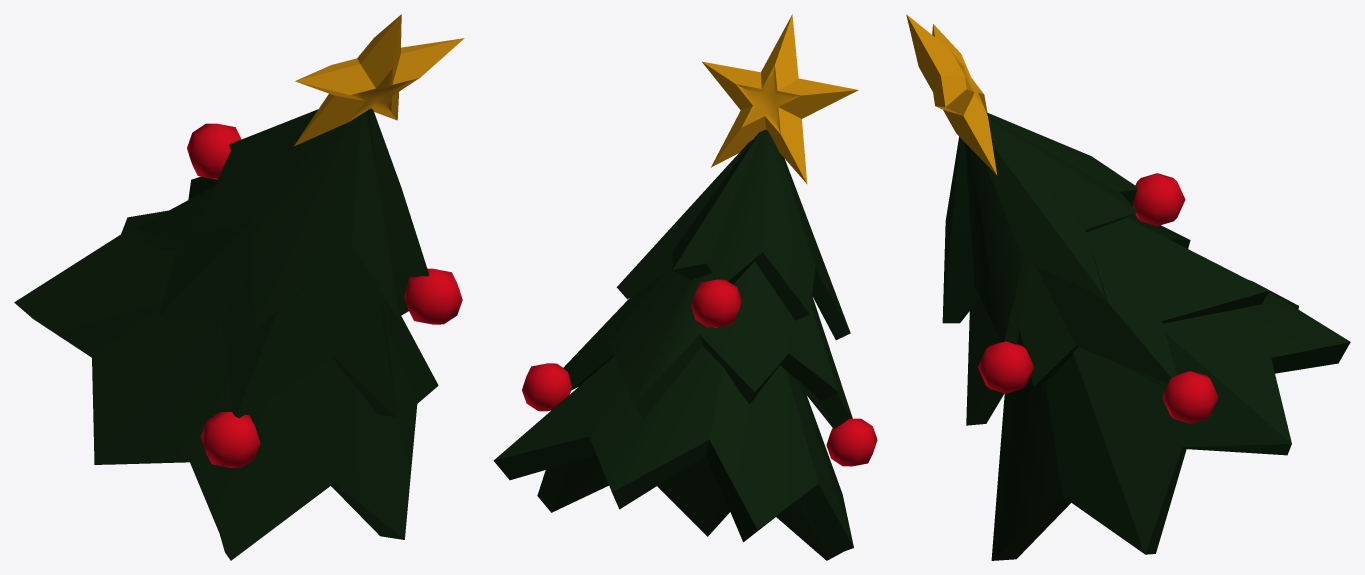
Rendered from tree_christmas_2022.sgm.obj.
3 renders of one model, left to right at view 1: azimuth 30°, elevation 25°; view 2: azimuth 150°, elevation 25°; view 3: azimuth 270°, elevation 25°, orthographic. The views are drawn at different scales.
Parts seen in each view (by area): view 1: 0, 1, 2; view 2: 0, 1, 2; view 3: 0, 2, 1.
Boxes of the visible parts, x1,y1,x2,y2 form: 0: [14, 108, 438, 560]; 1: [294, 14, 464, 146]; 2: [187, 123, 462, 467]; 0: [493, 129, 853, 560]; 1: [702, 14, 858, 183]; 2: [522, 279, 877, 466]; 0: [942, 112, 1350, 560]; 2: [978, 173, 1218, 423]; 1: [906, 14, 997, 175].
Size of the model in its own units: 0.5199 by 0.8014 by 0.6117.
